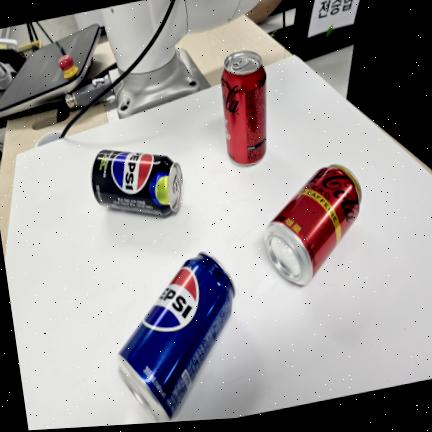can_coke_decaf: (264, 164, 361, 284)
can_coke_zero: (220, 50, 266, 165)
can_pepsi: (118, 252, 234, 421)
can_pepsi_zero: (91, 149, 182, 215)
